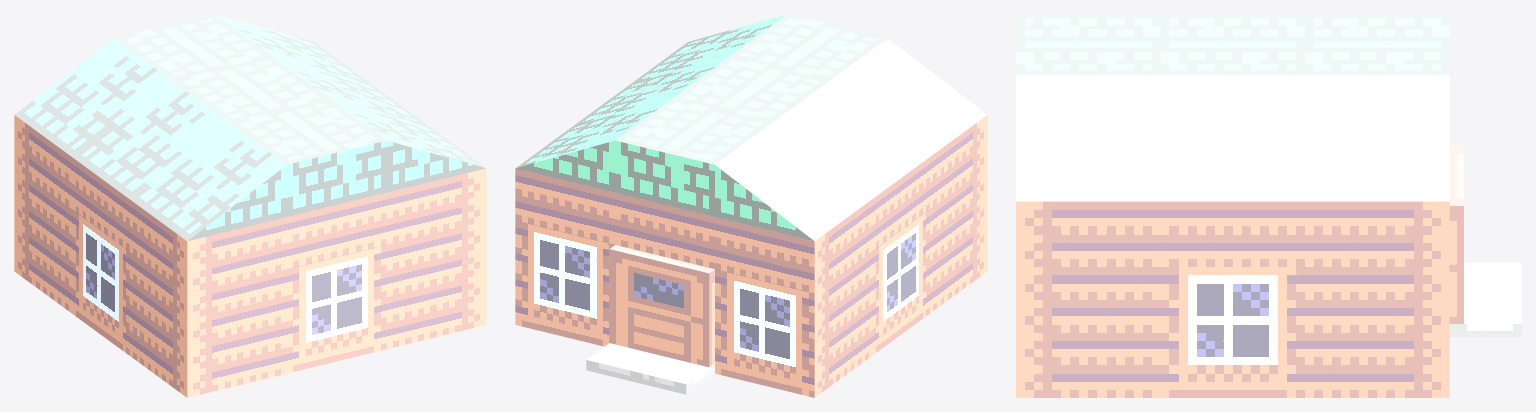
Rendered from lil-house.glb.
The picture shows the model from 3 angles, left to right: view 1: azimuth 30°, elevation 25°; view 2: azimuth 150°, elevation 25°; view 3: azimuth 270°, elevation 25°; orthographic projection. The views are drawn at different scales.
Visible parts, largest first — view 1: Cube; view 2: Cube, Cube.001; view 3: Cube, Cube.001.
Boxes of the visible parts, x1,y1,x2,y2 form: Cube: (14, 14, 486, 397); Cube: (515, 14, 987, 397); Cube.001: (609, 245, 714, 367); Cube: (1016, 14, 1521, 397); Cube.001: (1449, 145, 1463, 323).
Size of the model in its own units: 1.5 by 1 by 1.75.
